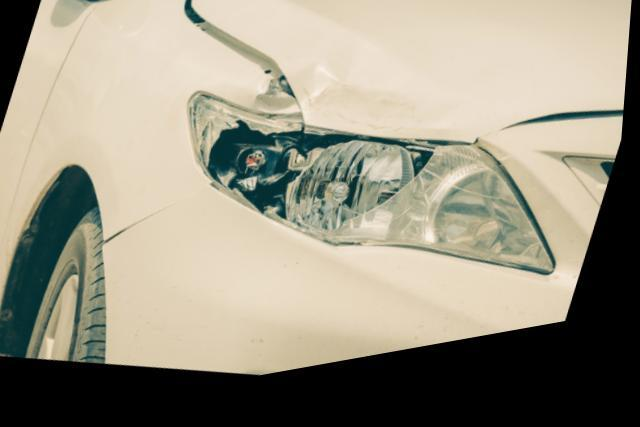dent: (294, 76, 418, 155), (259, 83, 306, 126)
dislocated part: (191, 0, 635, 162)
lamp broken: (191, 101, 559, 298)
